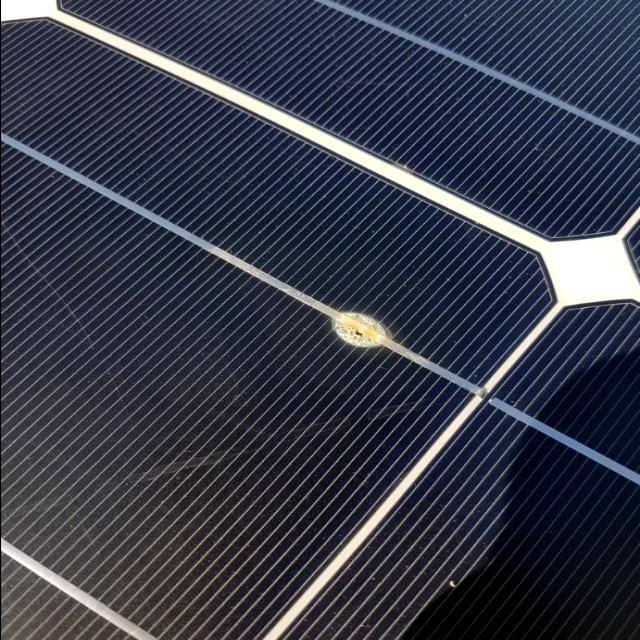shadow: (292, 288, 436, 366)
